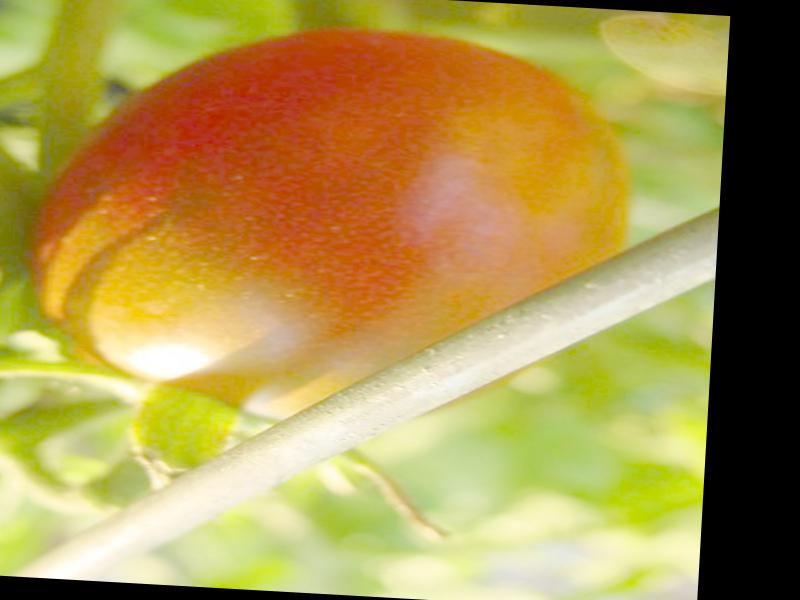Tomato: (31, 12, 628, 436)
